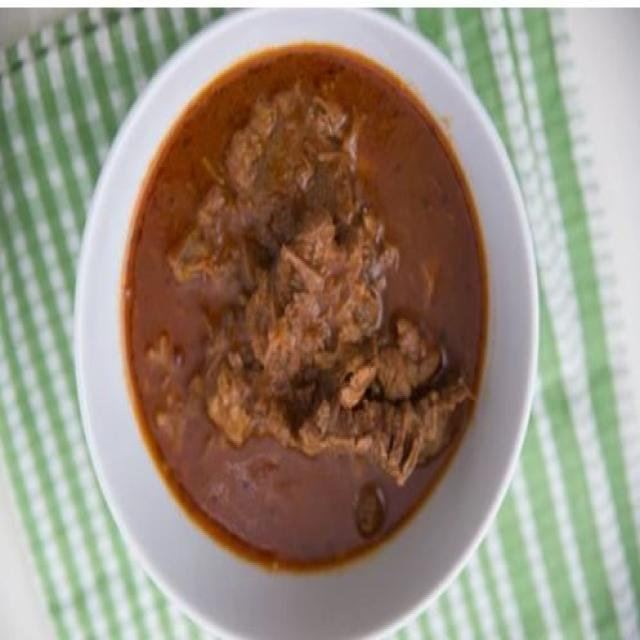kamouniya: (140, 59, 501, 606)
